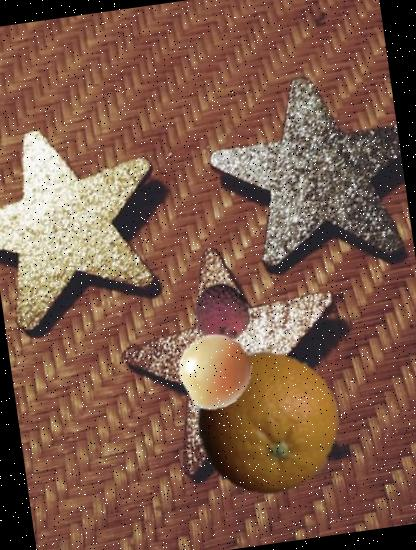Cherry: (175, 330, 257, 412)
Lychee: (188, 278, 256, 348)
Orange: (184, 341, 348, 505)
Plum: (174, 334, 290, 450)
